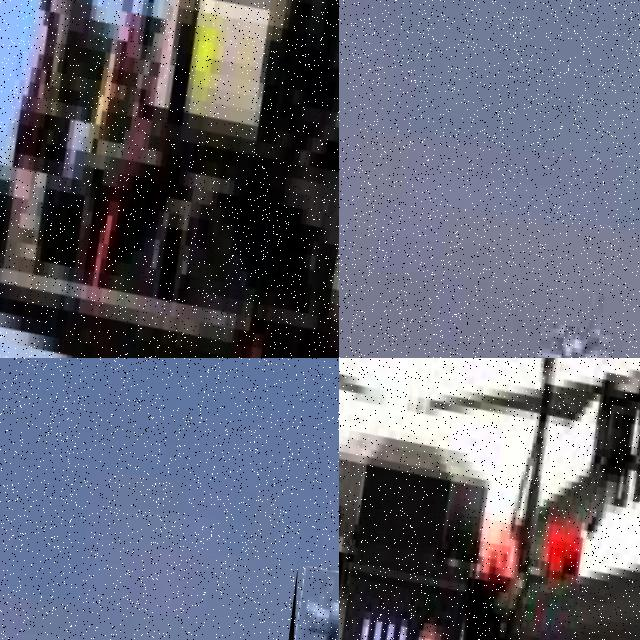drone: (0, 0, 339, 358), (339, 358, 640, 640), (283, 565, 339, 640)
